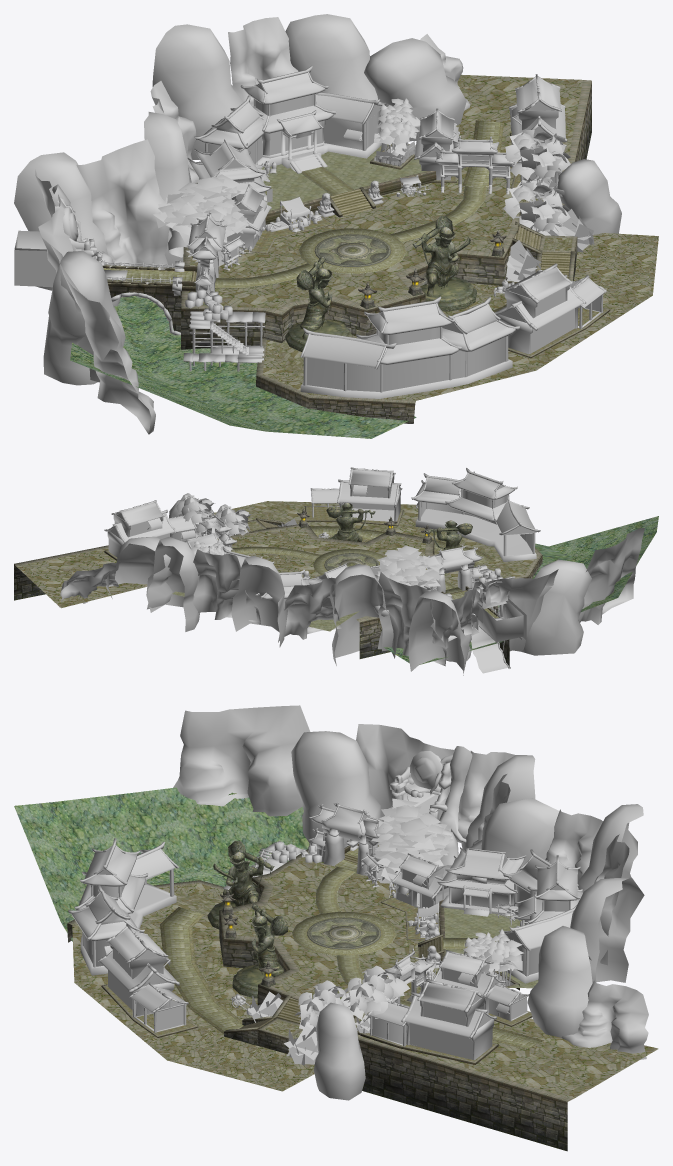
Rendered from lj_xsc01.FBX.
3 renders of one model, top to bottom at view 1: azimuth 30°, elevation 25°; view 2: azimuth 150°, elevation 25°; view 3: azimuth 270°, elevation 25°, orthographic. The views are drawn at different scales.
Parts seen in each view (by area): view 1: lj_xsc01; view 2: lj_xsc01; view 3: lj_xsc01.
Part boxes in pixels (<box>): lj_xsc01: <box>14,14,658,438</box>; lj_xsc01: <box>14,467,658,675</box>; lj_xsc01: <box>14,705,658,1151</box>.
Bounding box in the file's own units: 273 × 68.21 × 230.
